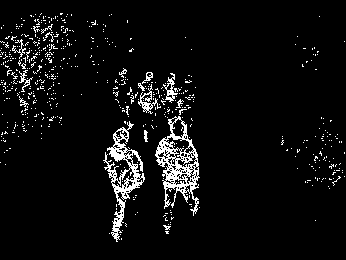person: (156, 115, 202, 238), (101, 127, 147, 244), (134, 69, 163, 145), (177, 69, 201, 141), (114, 66, 137, 133), (161, 71, 182, 141)
